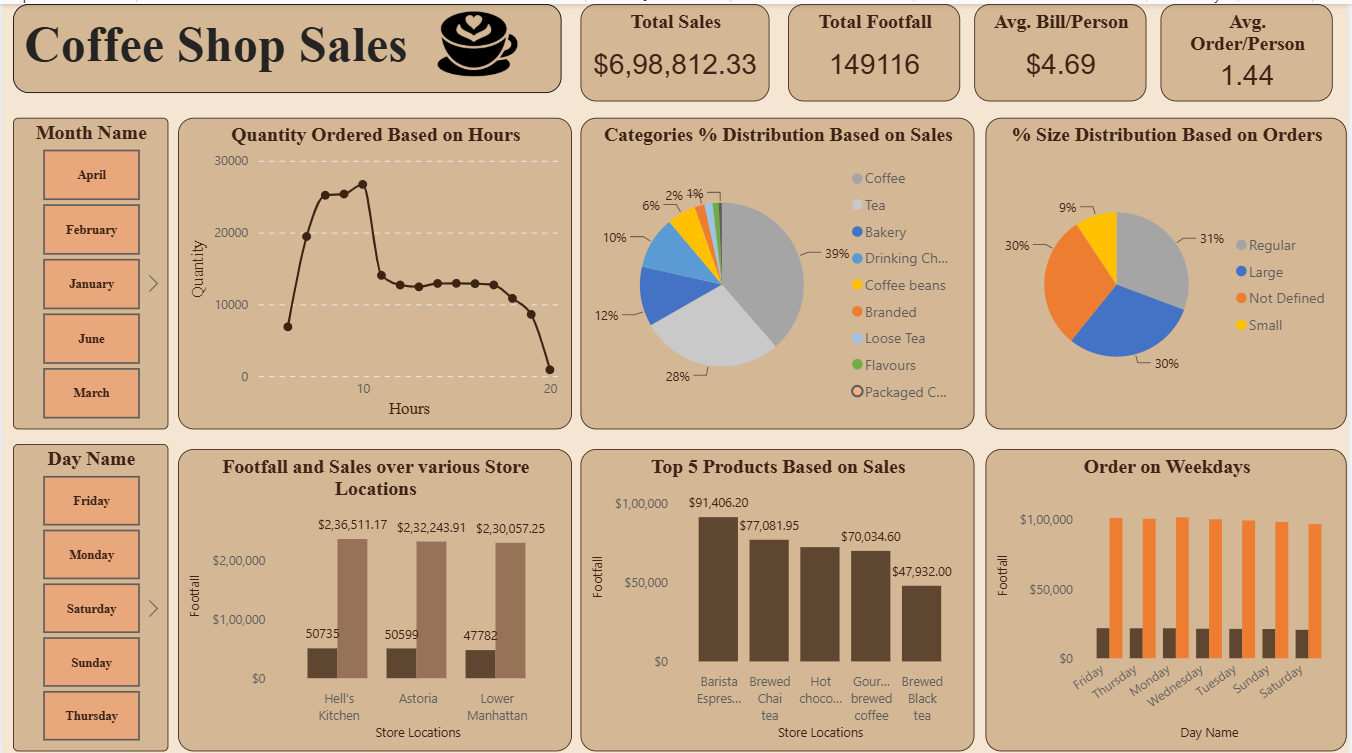

The page's visual inventory and layout, read from the dashboard file:
{"tool":"powerbi","page":{"name":"Page 1","canvas":[1280,720],"ordinal":0},"visuals":[{"type":"textbox","box":[9.5,0,522.6,84.5],"z":0},{"type":"image","box":[406,0,91.7,76.2],"z":1000},{"type":"card","title":"Total Sales","fields":{"Values":["Sum(Transactions.Total_bill)"]},"box":[550,0,179.8,92.9],"z":2000},{"type":"card","title":"Total Footfall","fields":{"Values":["CountNonNull(Transactions.transaction_id)"]},"box":[747.6,0,164.3,92.9],"z":3000},{"type":"card","title":"Avg. Bill/Person","fields":{"Values":["Avg(Transactions.Total_bill)"]},"box":[925,0,164.3,92.9],"z":4000},{"type":"card","title":"Avg. Order/Person","fields":{"Values":["Avg(Transactions.transaction_qty)"]},"box":[1102.4,0,164.3,92.9],"z":5000},{"type":"slicer","title":"Month Name","fields":{"Values":["Transactions.Month Name"]},"box":[9.5,108.3,147.6,296.4],"z":6000},{"type":"slicer","title":"Day Name","fields":{"Values":["Transactions.Day Name"]},"box":[9.5,419,147.6,292.9],"z":7000},{"type":"lineChart","title":"Quantity Ordered Based on Hours","fields":{"Category":["Transactions.Hour"],"Y":["Sum(Transactions.transaction_qty)"]},"box":[166.7,108.3,375,296.4],"z":8000},{"type":"pieChart","title":"Categories % Distribution Based on Sales","fields":{"Category":["Transactions.product_category"],"Y":["Sum(Transactions.Total_bill)"]},"box":[550,108.3,375,296.4],"z":9000},{"type":"pieChart","title":"% Size Distribution Based on Orders","fields":{"Category":["Transactions.Size"],"Y":["CountNonNull(Transactions.transaction_id)"]},"box":[935.7,108.3,344,296.4],"z":10000},{"type":"clusteredColumnChart","title":"Footfall and Sales over various Store Locations","fields":{"Category":["Transactions.store_location"],"Y":["CountNonNull(Transactions.transaction_id)","Sum(Transactions.Total_bill)"]},"box":[166.7,423.8,375,288.1],"z":11000},{"type":"clusteredColumnChart","title":"Top 5 Products Based on Sales","fields":{"Category":["Transactions.product_type"],"Y":["Sum(Transactions.Total_bill)"]},"box":[550,423.8,375,288.1],"z":12000},{"type":"clusteredColumnChart","title":"Order on Weekdays","fields":{"Category":["Transactions.Day Name"],"Y":["CountNonNull(Transactions.transaction_id)","Sum(Transactions.Total_bill)"]},"box":[935.7,423.8,344,288.1],"z":13000}]}

Visuals, with their boxes in screenshot pixels (x1, y1, x2, y2), scaled from the page's 1280x720 canvas onto the 1352x753 screenshot:
textbox: x1=10 y1=0 x2=562 y2=88
image: x1=429 y1=0 x2=526 y2=80
"Total Sales" card: x1=581 y1=0 x2=771 y2=97
"Total Footfall" card: x1=790 y1=0 x2=963 y2=97
"Avg. Bill/Person" card: x1=977 y1=0 x2=1151 y2=97
"Avg. Order/Person" card: x1=1164 y1=0 x2=1338 y2=97
"Month Name" slicer: x1=10 y1=113 x2=166 y2=423
"Day Name" slicer: x1=10 y1=438 x2=166 y2=745
"Quantity Ordered Based on Hours" lineChart: x1=176 y1=113 x2=572 y2=423
"Categories % Distribution Based on Sales" pieChart: x1=581 y1=113 x2=977 y2=423
"% Size Distribution Based on Orders" pieChart: x1=988 y1=113 x2=1351 y2=423
"Footfall and Sales over various Store Locations" clusteredColumnChart: x1=176 y1=443 x2=572 y2=745
"Top 5 Products Based on Sales" clusteredColumnChart: x1=581 y1=443 x2=977 y2=745
"Order on Weekdays" clusteredColumnChart: x1=988 y1=443 x2=1351 y2=745
